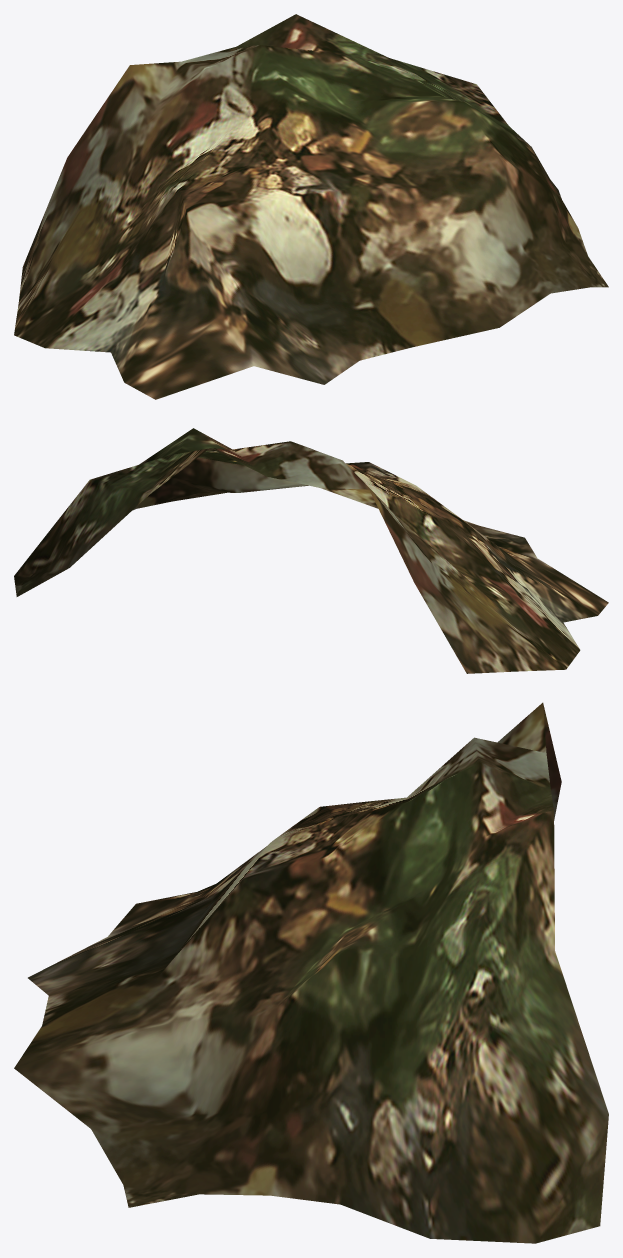
Rendered from SM_Tas_02.fbx.
3 renders of one model, top to bottom at view 1: azimuth 30°, elevation 25°; view 2: azimuth 150°, elevation 25°; view 3: azimuth 270°, elevation 25°, orthographic. The views are drawn at different scales.
Visible parts, largest first — view 1: Tas_02; view 2: Tas_02; view 3: Tas_02.
Boxes of the visible parts, box(x1,y1,x2,y2) form: Tas_02: box(14, 14, 608, 399); Tas_02: box(14, 428, 608, 673); Tas_02: box(14, 702, 608, 1243).
Bounding box in the file's own units: 167 × 60.39 × 110.
Materials: 1 (1 with a texture image).
